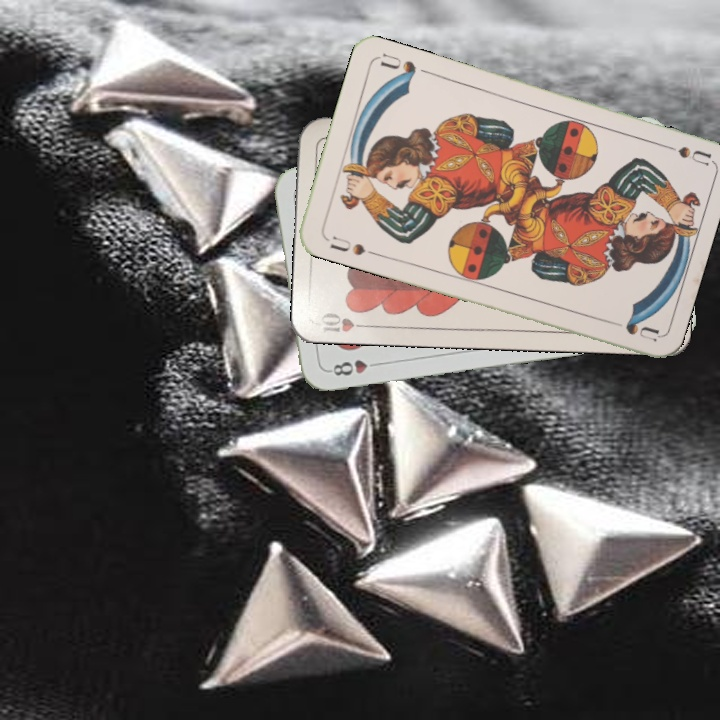H10: (317, 308, 374, 335)
H8: (324, 355, 383, 379)
SU: (653, 138, 712, 168), (326, 232, 379, 259)
